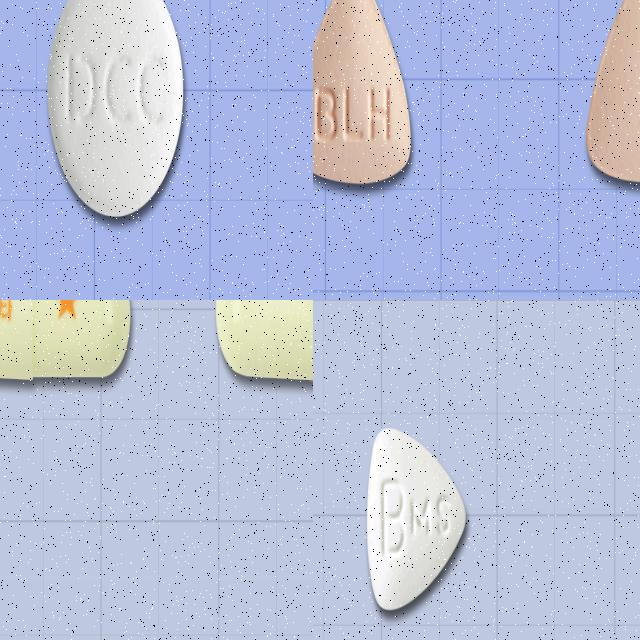Baracle: (313, 0, 417, 193), (583, 0, 640, 191)
Baraclude: (364, 420, 470, 617)
Ciproxin -250mg: (44, 0, 189, 223)
Dentistar Cap: (0, 300, 133, 381), (216, 300, 313, 384)
